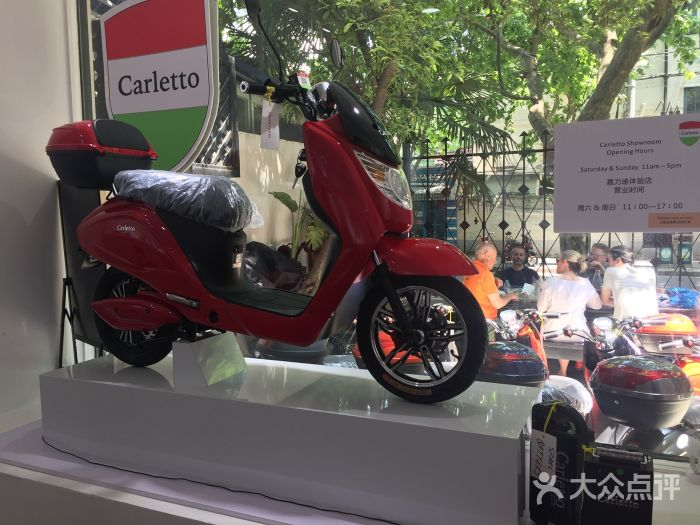电动车: (32, 67, 479, 406)
